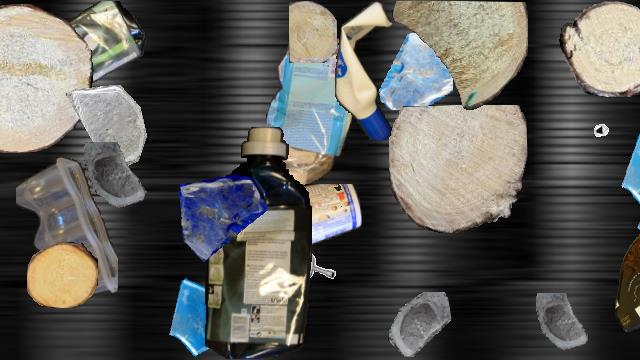glass: (173, 172, 267, 266), (165, 269, 255, 359), (66, 85, 150, 169), (79, 142, 157, 220), (376, 33, 452, 109), (531, 293, 597, 359), (387, 292, 451, 356), (619, 124, 640, 216), (637, 190, 640, 254)
metal: (294, 252, 342, 300), (591, 107, 629, 145)
plastic: (204, 127, 312, 359), (0, 1, 147, 103), (266, 35, 352, 209), (16, 157, 118, 299), (335, 1, 399, 139), (262, 184, 362, 254), (615, 224, 640, 332)
wood: (389, 105, 527, 233), (392, 1, 528, 109), (0, 4, 92, 152), (559, 1, 640, 97), (27, 242, 97, 308), (289, 1, 337, 63)
